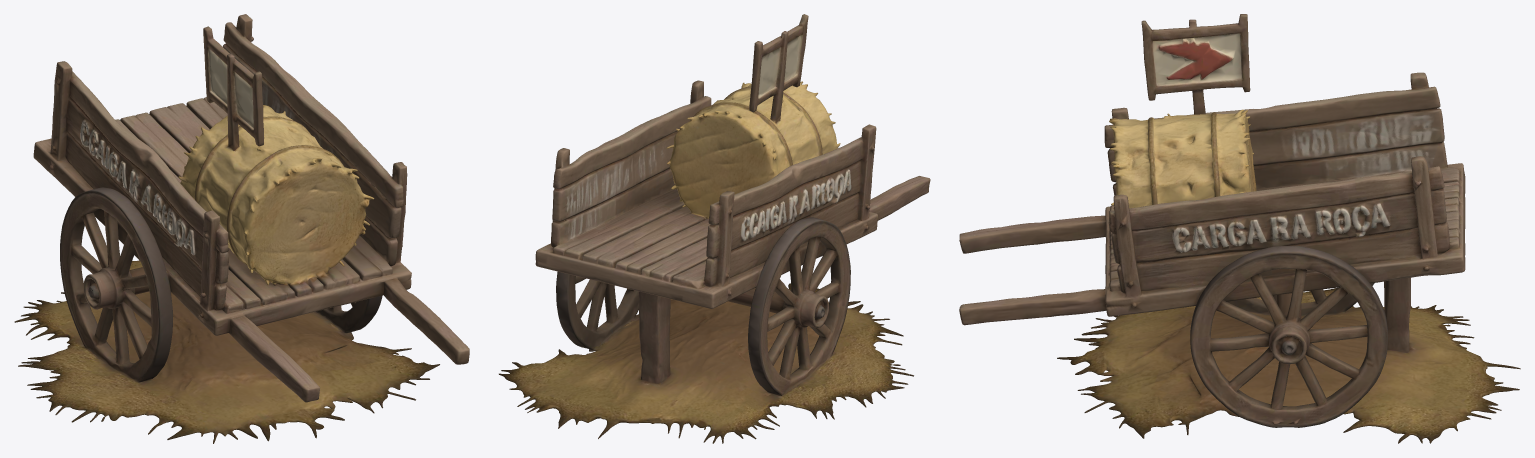
The model's file is wooden+wagon+3d+model.fbx.
3 renders of one model, left to right at view 1: azimuth 30°, elevation 25°; view 2: azimuth 150°, elevation 25°; view 3: azimuth 270°, elevation 25°, orthographic. The views are drawn at different scales.
Visible parts, largest first — view 1: meshes[0]; view 2: meshes[0]; view 3: meshes[0].
Part boxes in pixels (<box>): meshes[0]: <box>14,14,469,443</box>; meshes[0]: <box>499,14,930,443</box>; meshes[0]: <box>959,14,1520,443</box>.
Size of the model in its own units: 0.7124 by 0.6733 by 1.
Materials: 1 (1 with a texture image).
